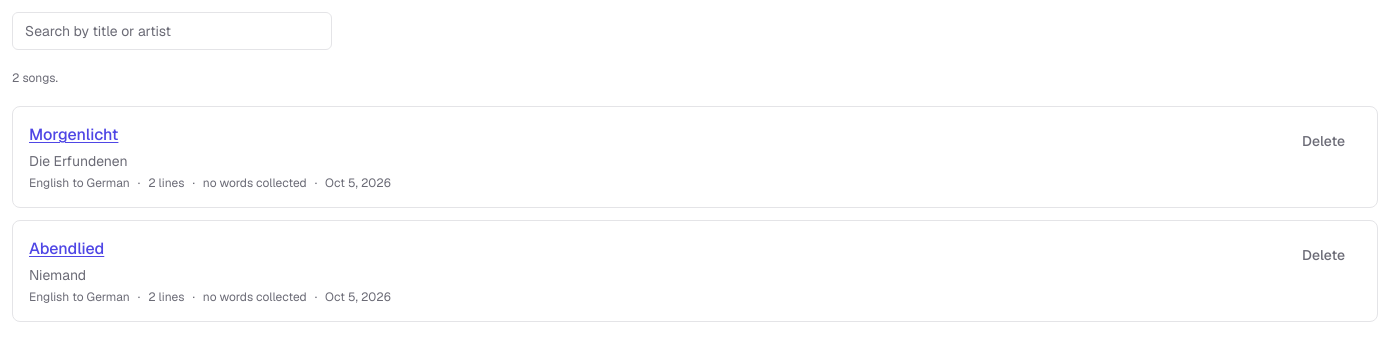
Test: SongLibrary › search › filters by artist
Expected: the number of list items is 2, top-left (12, 106), bottom-right (1377, 208); top-left (12, 220), bottom-right (1377, 322)
Type "Erfundenen" into the search field named "Search songs" at coordinates (172, 31), box top-left (12, 12), bottom-right (332, 50)
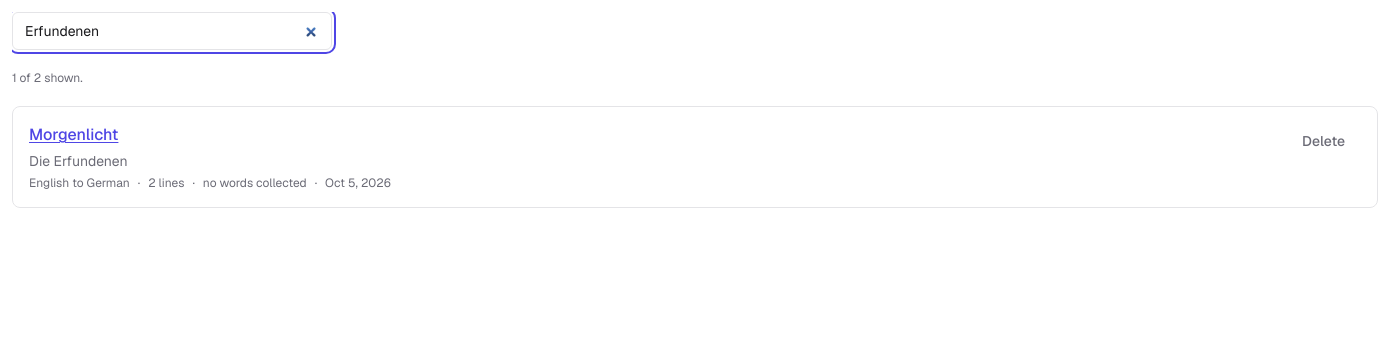
Expected: the list item shows "Morgenlicht", top-left (29, 123), bottom-right (1270, 147)
Now the number of list items is 1, box top-left (12, 106), bottom-right (1377, 208)
